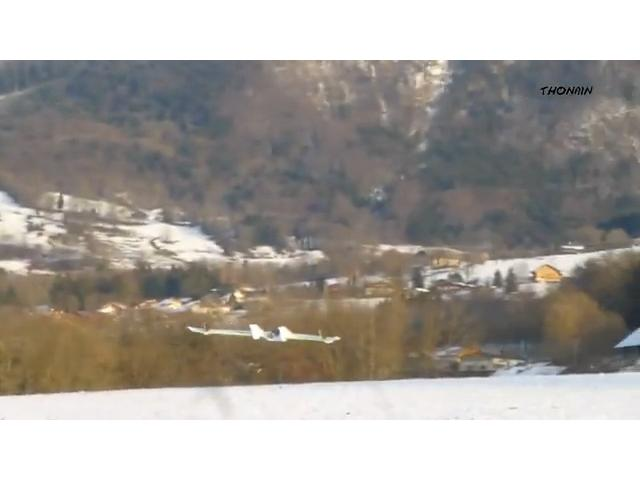Anti-Drone: (188, 326, 338, 344)
